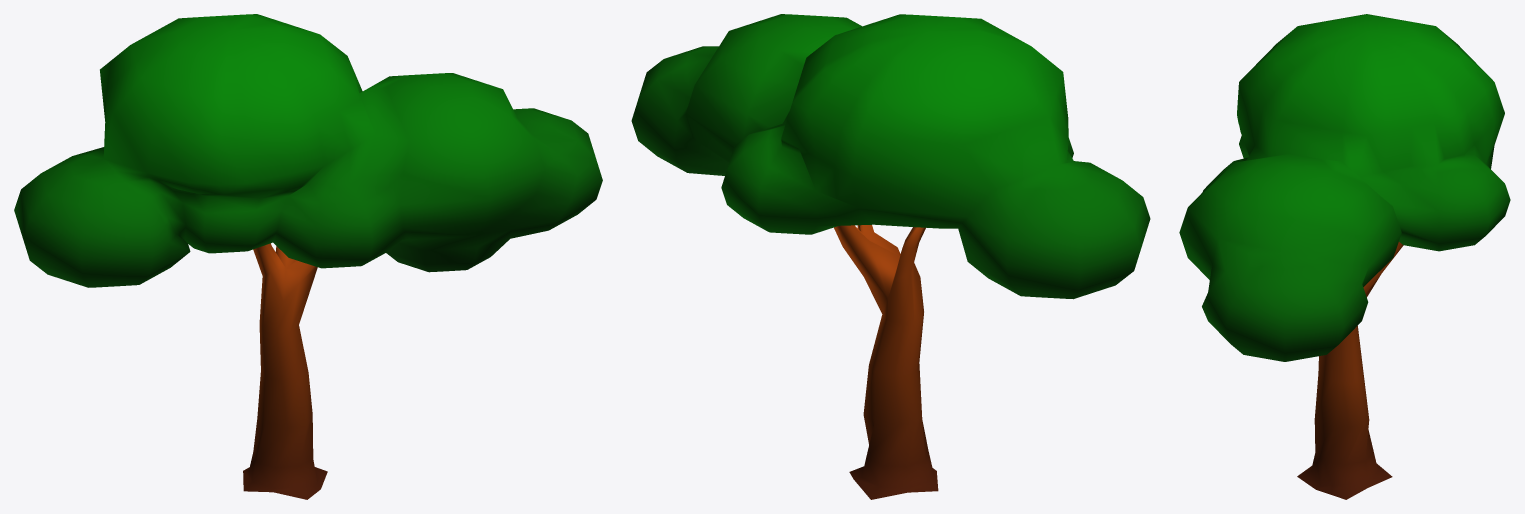
File: ArvoreNuvem.fbx
The picture shows the model from 3 angles, left to right: view 1: azimuth 30°, elevation 25°; view 2: azimuth 150°, elevation 25°; view 3: azimuth 270°, elevation 25°; orthographic projection. The views are drawn at different scales.
Parts seen in each view (by area): view 1: ArvoreNuvem; view 2: ArvoreNuvem; view 3: ArvoreNuvem.
Part boxes in pixels (bbox=[...]): ArvoreNuvem: bbox=[14, 14, 602, 499]; ArvoreNuvem: bbox=[631, 14, 1150, 499]; ArvoreNuvem: bbox=[1179, 14, 1510, 499].
Size of the model in its own units: 382 by 315 by 220.
